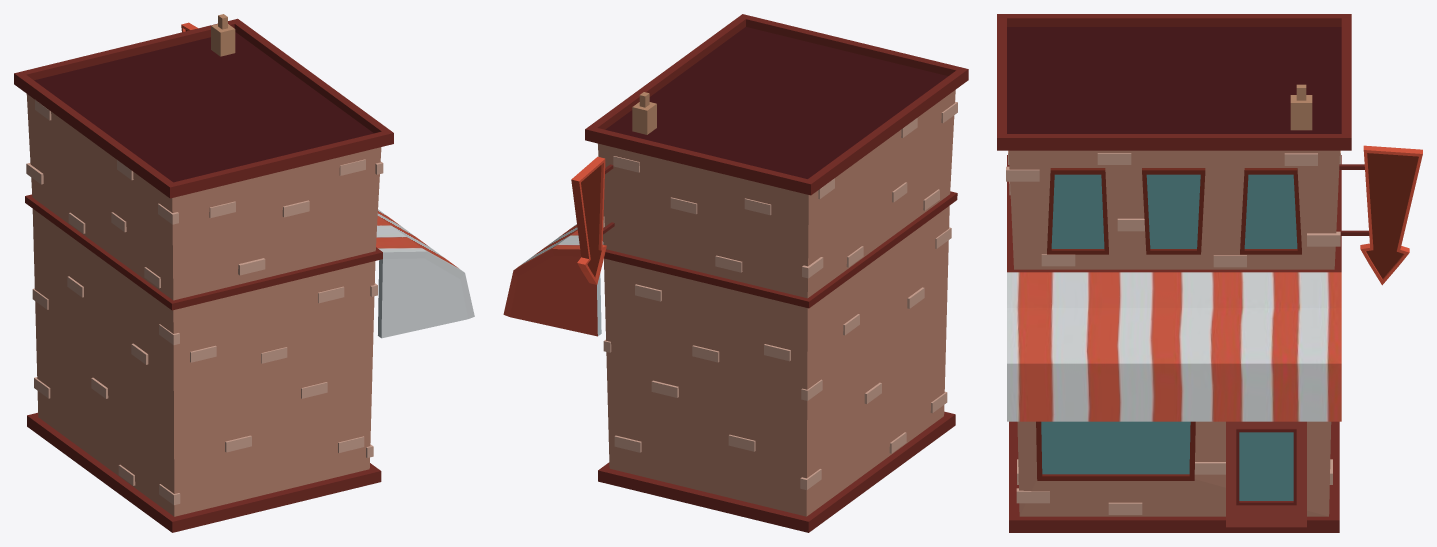
The model's file is cafe.fbx.
3 renders of one model, left to right at view 1: azimuth 30°, elevation 25°; view 2: azimuth 150°, elevation 25°; view 3: azimuth 270°, elevation 25°, orthographic. The views are drawn at different scales.
Visible parts, largest first — view 1: Cafe, Cloth thing, Bricks; view 2: Cafe, Cloth thing, Bricks, Sign; view 3: Cafe, Cloth thing, Windows, Door, Sign, Bricks.
Part boxes in pixels (x1=…): Cafe: x1=14, y1=14, x2=393, y2=532; Cloth thing: x1=376, y1=209, x2=474, y2=338; Bricks: x1=26, y1=100, x2=383, y2=504; Cafe: x1=585, y1=14, x2=968, y2=532; Cloth thing: x1=503, y1=224, x2=603, y2=336; Bricks: x1=603, y1=101, x2=957, y2=490; Sign: x1=571, y1=156, x2=614, y2=284; Cafe: x1=997, y1=14, x2=1351, y2=532; Cloth thing: x1=1007, y1=272, x2=1341, y2=421; Windows: x1=1047, y1=168, x2=1301, y2=254; Door: x1=1226, y1=421, x2=1306, y2=527; Sign: x1=1336, y1=145, x2=1422, y2=285; Bricks: x1=1006, y1=150, x2=1340, y2=514.
Bounding box in the file's own units: 524 × 613 × 550.
